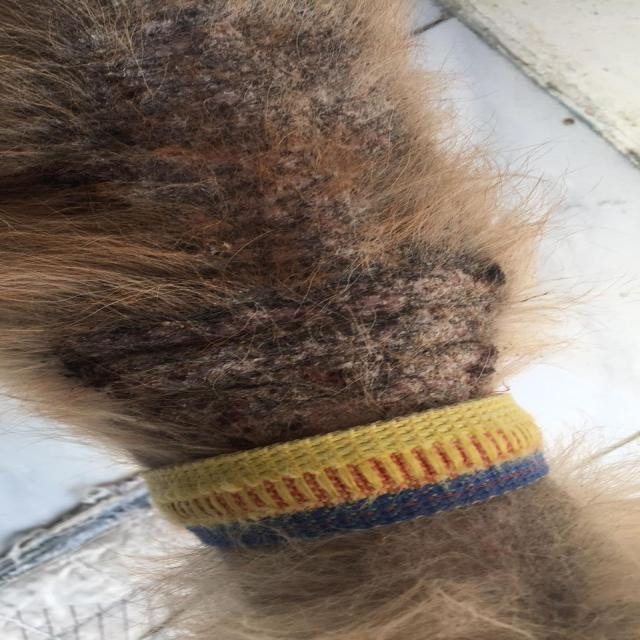demodicosis: (93, 289, 528, 446), (90, 22, 412, 173)
